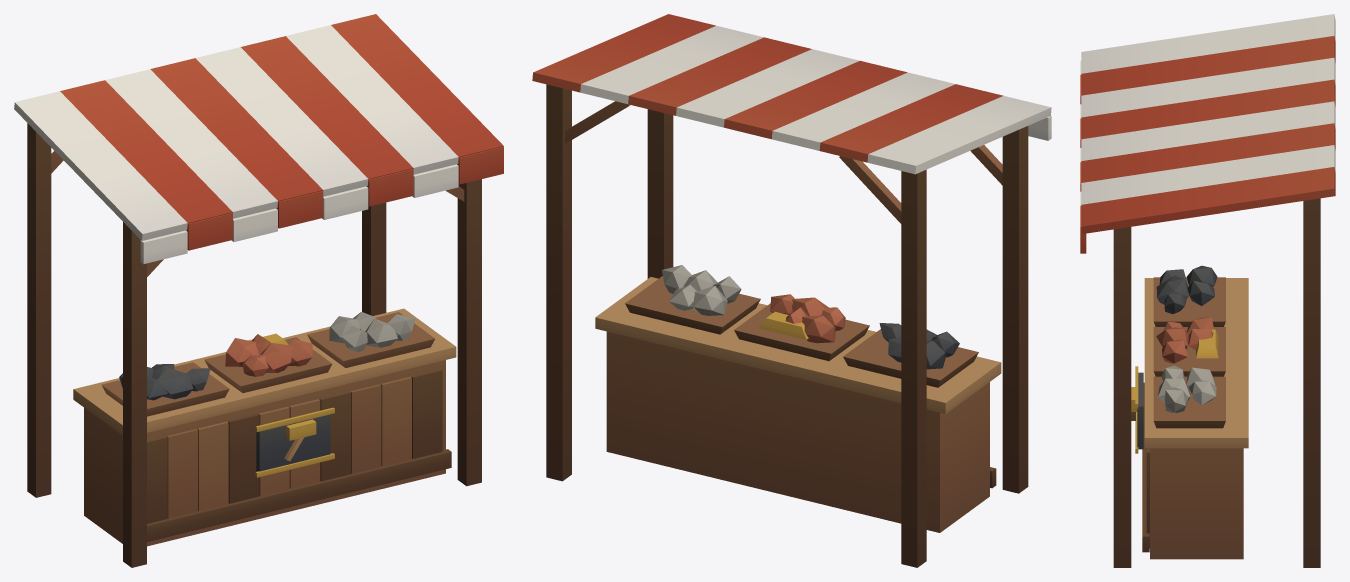
The model's file is stall_aron.glb.
3 renders of one model, left to right at view 1: azimuth 30°, elevation 25°; view 2: azimuth 150°, elevation 25°; view 3: azimuth 270°, elevation 25°, orthographic. The views are drawn at different scales.
Visible parts, largest first — view 1: stall_aron; view 2: stall_aron; view 3: stall_aron.
Part boxes in pixels (bbox=[...]): stall_aron: bbox=[14, 14, 503, 567]; stall_aron: bbox=[532, 14, 1051, 567]; stall_aron: bbox=[1080, 14, 1335, 567].
Size of the model in its own units: 8.96 by 9.14 by 5.54.
Materials: 1 (1 with a texture image).
